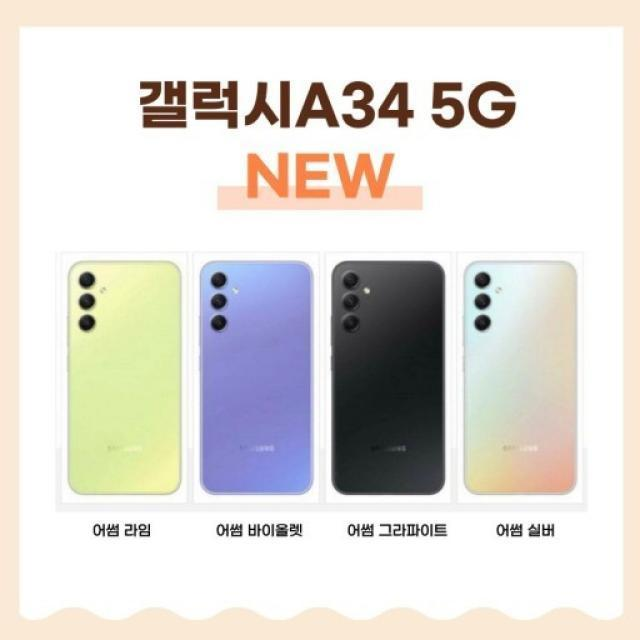phone: (330, 258, 450, 502), (196, 263, 318, 499), (462, 258, 580, 501), (68, 258, 185, 498)
